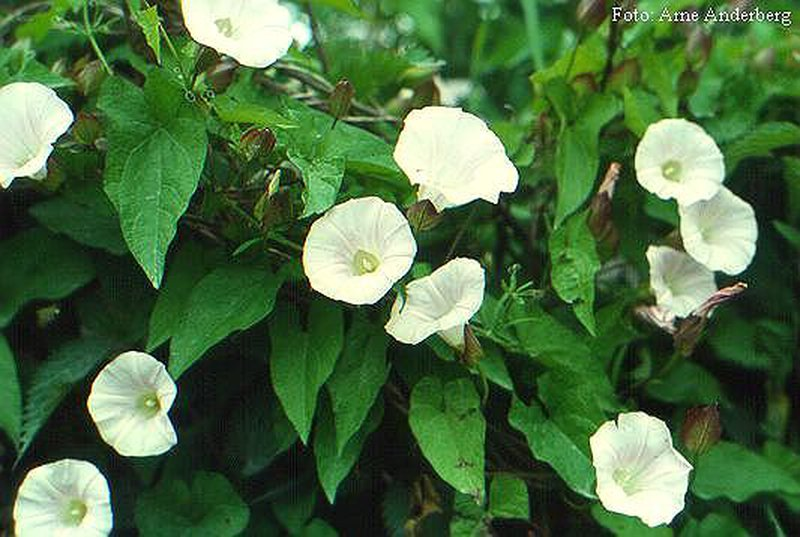haagwinde: (3, 1, 774, 526)
